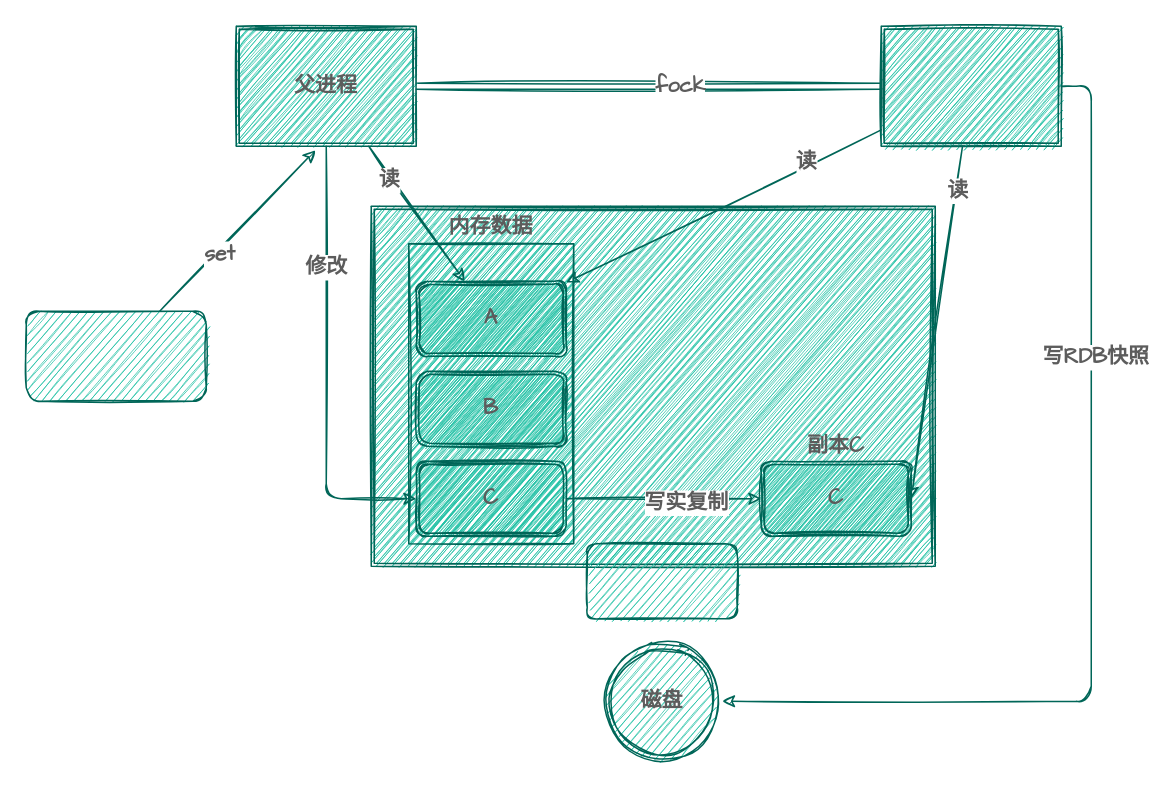
Image size: 1175x788. Some labels were removed from this diagram. Each missing label, with the centre of its shape:
内存: (661,580)
子进程: (970,85)
客户端: (115,355)
